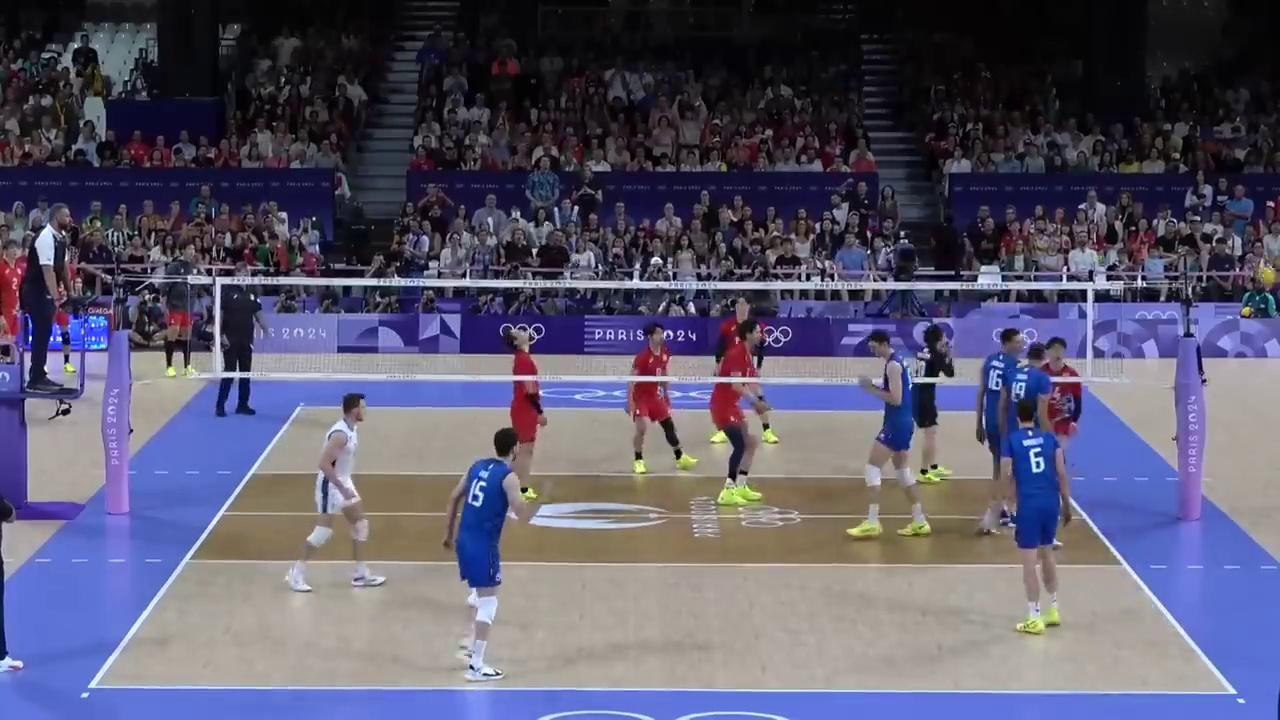ball: (1254, 267, 1273, 285)
